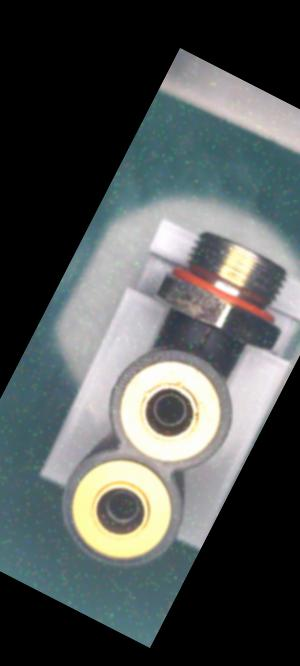craze: (188, 321, 217, 358)
